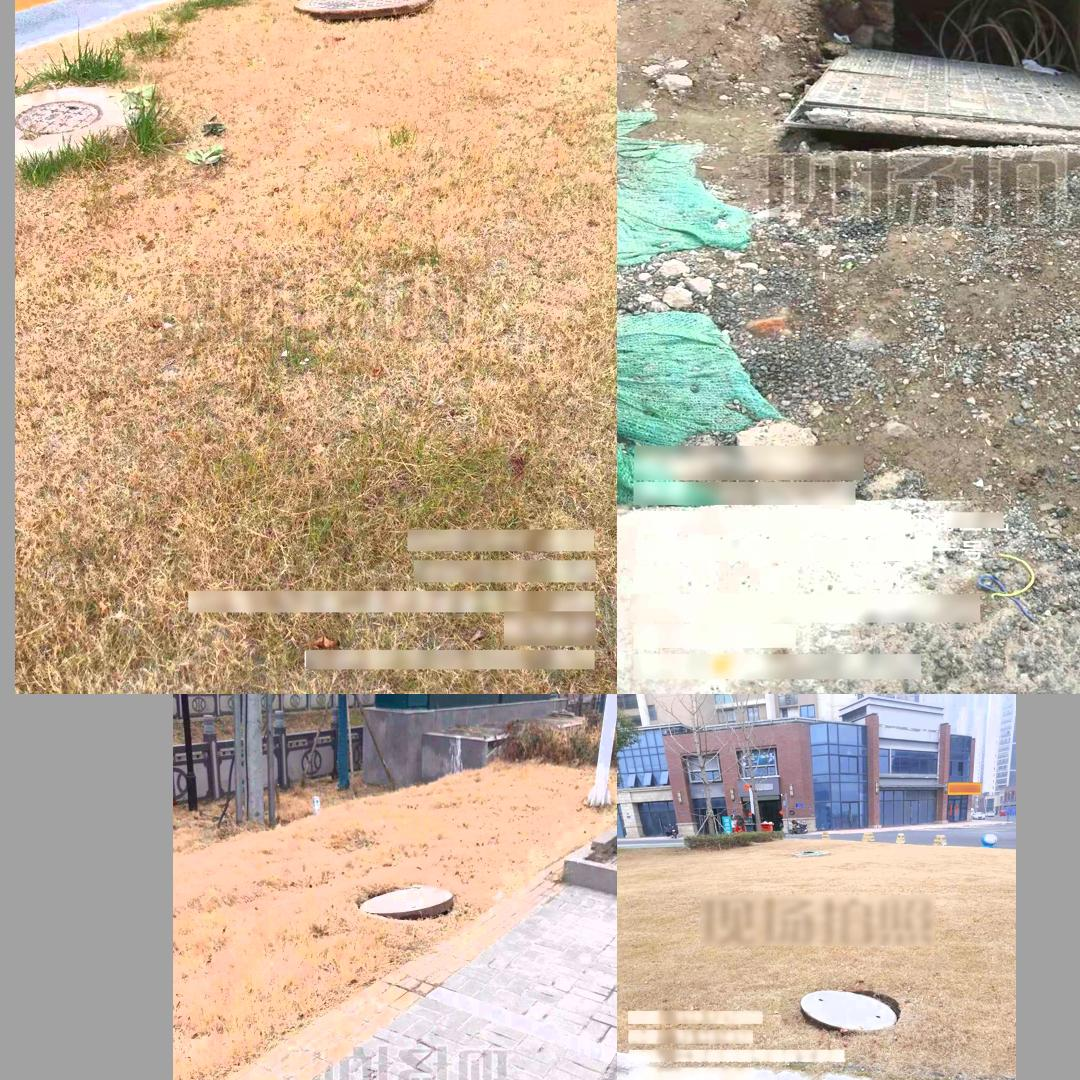uncovered: (781, 0, 1080, 160), (799, 989, 900, 1031), (294, 0, 435, 27), (360, 882, 455, 921)
